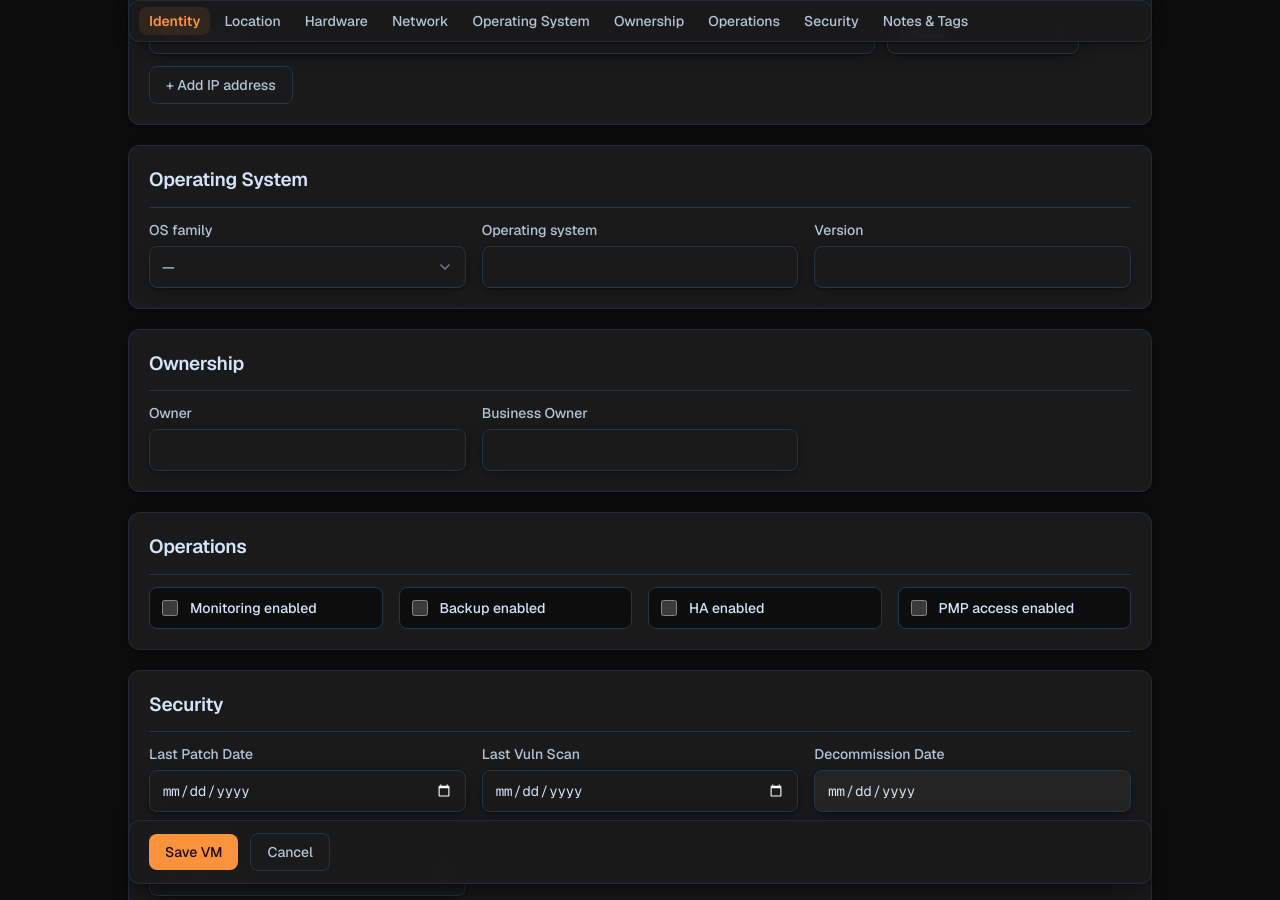
Test: VmFormPage combo/owner autocomplete › suggests known owners and applies the chosen one
The image size is (1280, 900).
(page scrolled)
Type "ali" into the dropdown labelled "Owner" at (307, 450), box [149, 429, 466, 471]
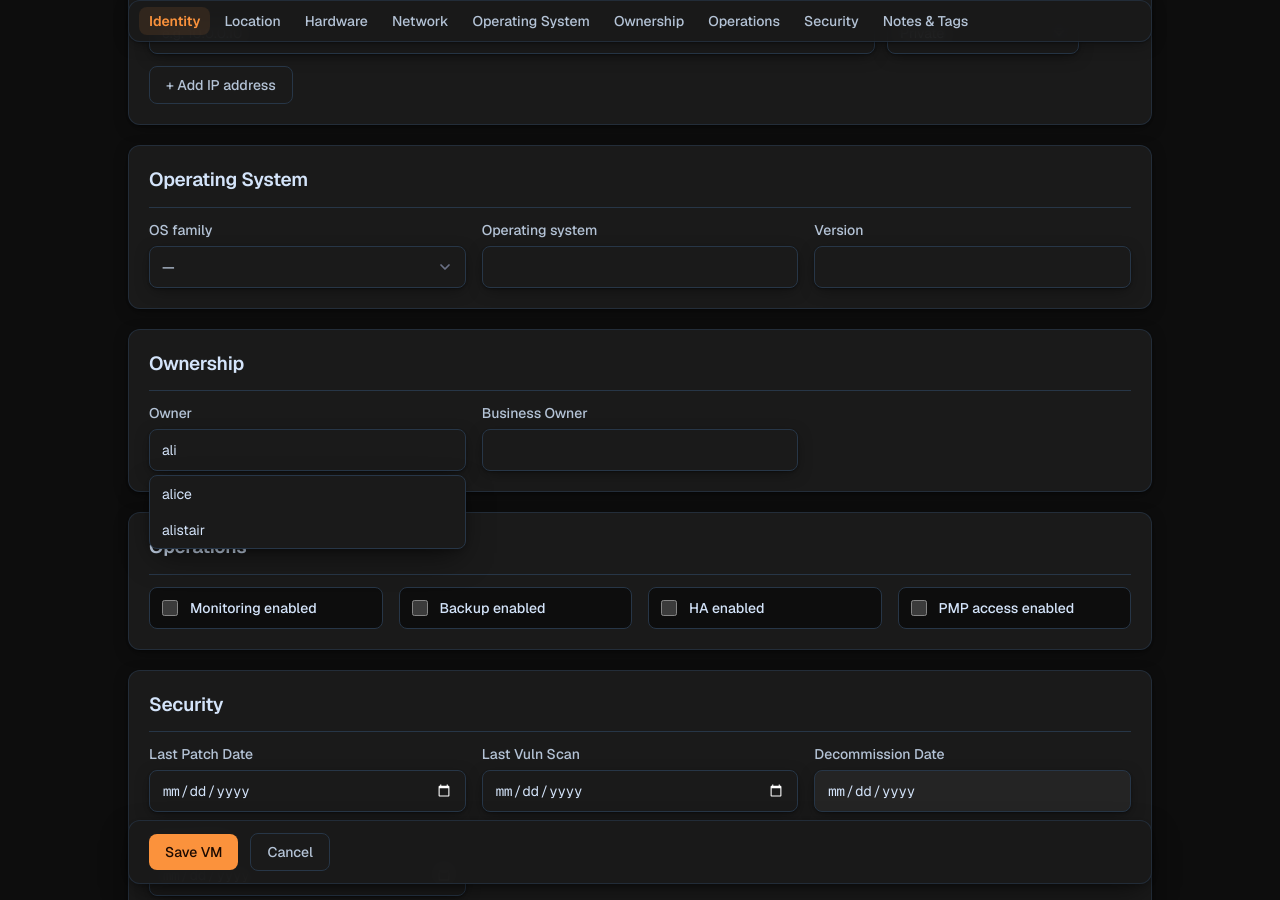
Click the button "alistair" at (184, 530), box [150, 512, 465, 548]
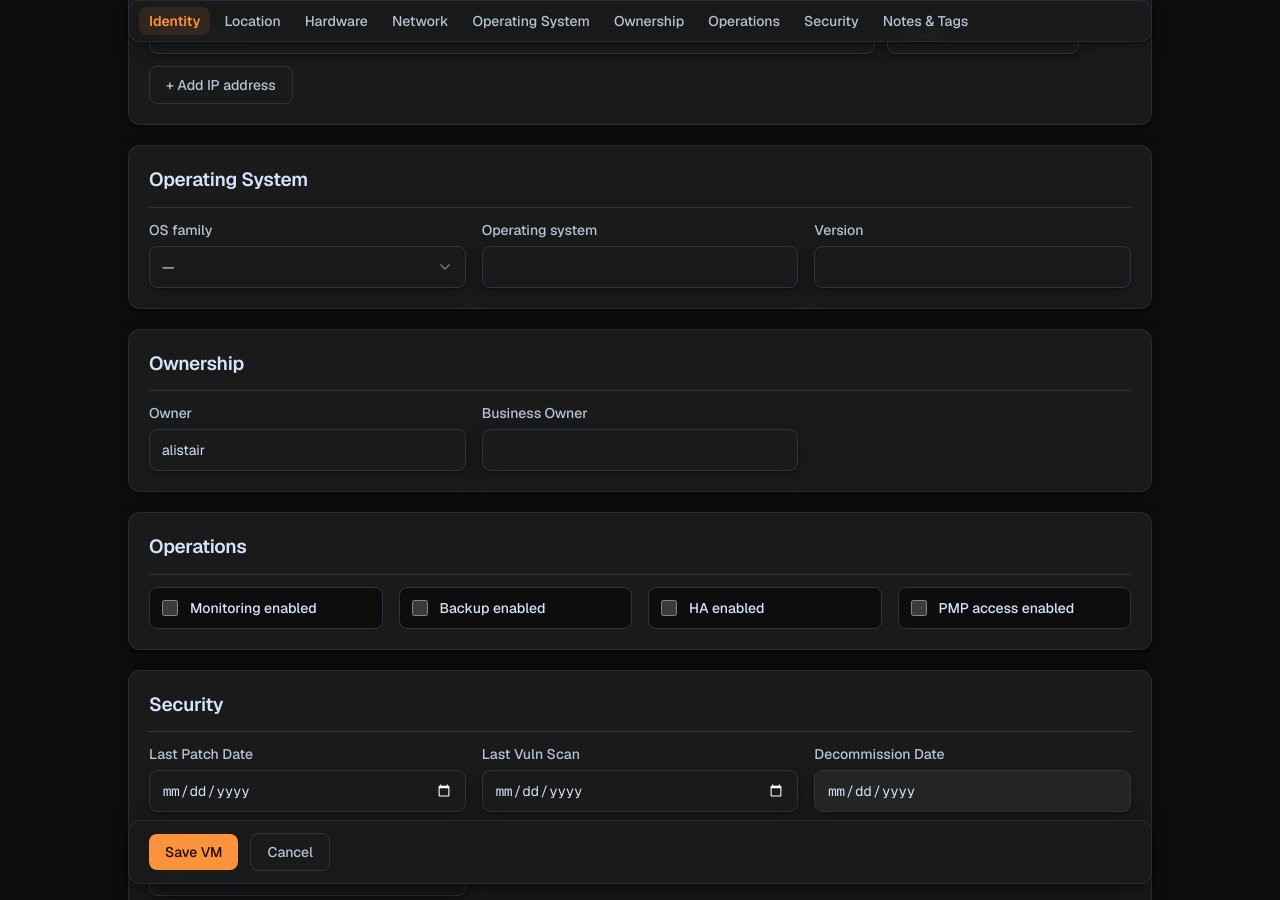
Expected: the dropdown labelled "Owner" holds "alistair", [149, 429, 466, 471]
